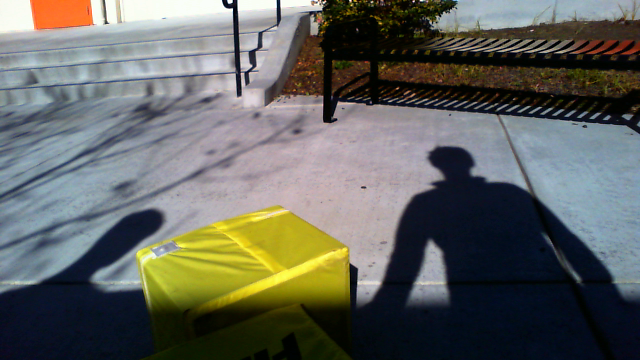cube: (136, 205, 353, 360), (125, 303, 361, 360)
